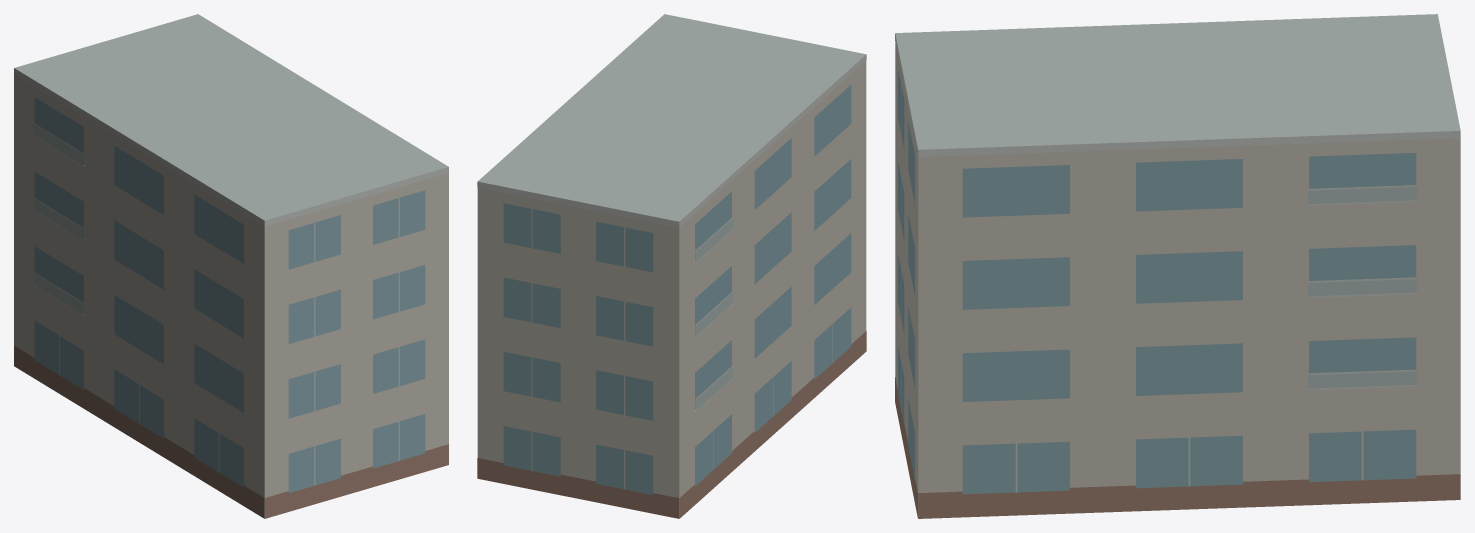
Rendered from survey-upis-32702346.glb.
The picture shows the model from 3 angles, left to right: view 1: azimuth 30°, elevation 25°; view 2: azimuth 150°, elevation 25°; view 3: azimuth 270°, elevation 25°; orthographic projection. The views are drawn at different scales.
Visible parts, largest first — view 1: survey-upis-32702346.tmp; view 2: survey-upis-32702346.tmp; view 3: survey-upis-32702346.tmp.
Boxes of the visible parts, left/top/right/bottom form: survey-upis-32702346.tmp: left=14, top=14, right=448, bottom=518; survey-upis-32702346.tmp: left=477, top=14, right=866, bottom=518; survey-upis-32702346.tmp: left=895, top=14, right=1460, bottom=518.
Size of the model in its own units: 9.64 by 12.2 by 16.96.
